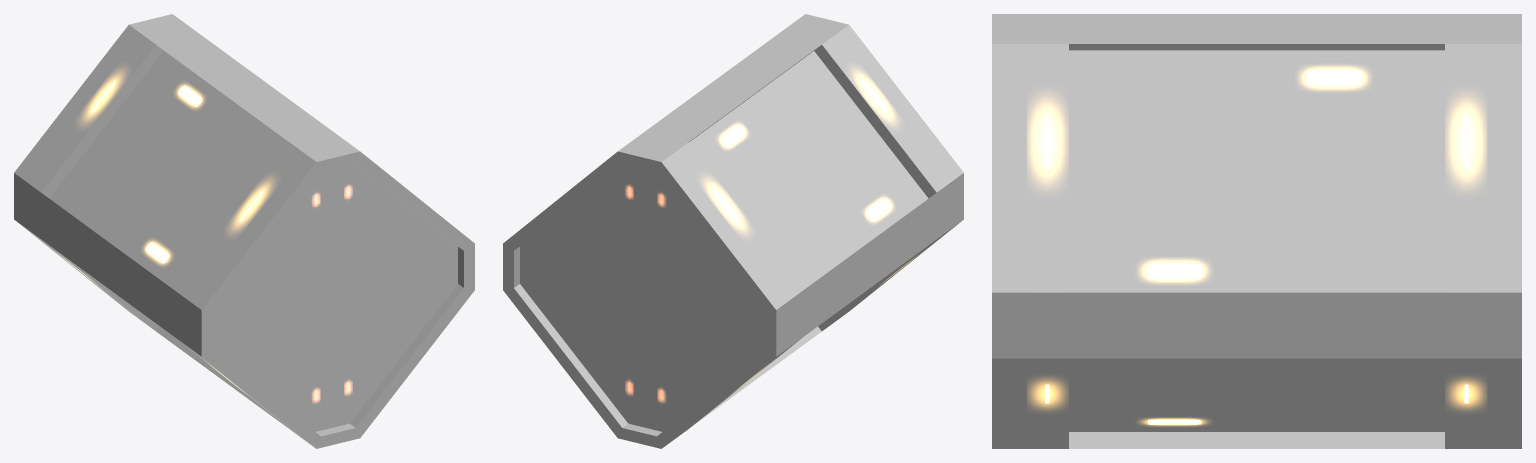
File: Station_piece 2.fbx
The picture shows the model from 3 angles, left to right: view 1: azimuth 30°, elevation 25°; view 2: azimuth 150°, elevation 25°; view 3: azimuth 270°, elevation 25°; orthographic projection. The views are drawn at different scales.
Visible parts, largest first — view 1: Station_pioece 2; view 2: Station_pioece 2; view 3: Station_pioece 2.
Boxes of the visible parts, x1,y1,x2,y2 form: Station_pioece 2: [14, 14, 474, 448]; Station_pioece 2: [503, 14, 963, 448]; Station_pioece 2: [992, 14, 1521, 448].
Size of the model in its own units: 151 by 152 by 180.
